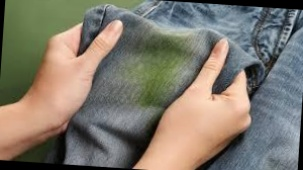earth: (132, 34, 180, 96)
